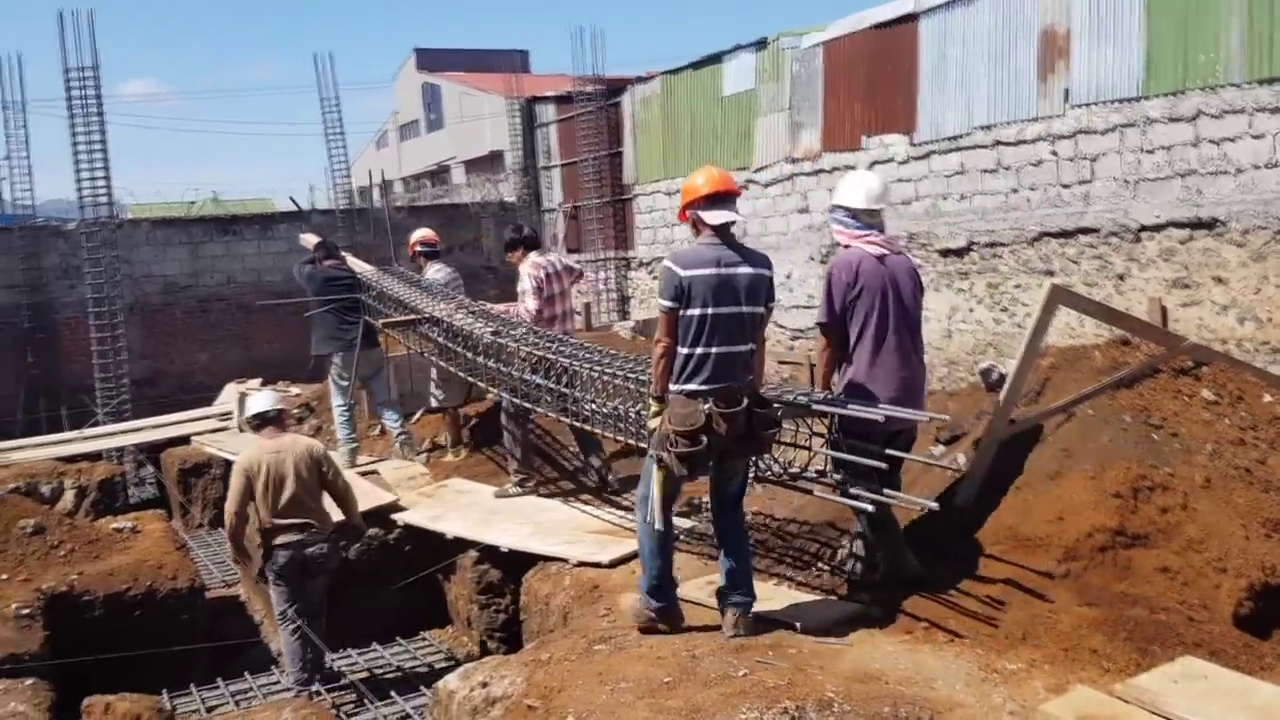helmet: (675, 165, 743, 224), (827, 167, 891, 212), (243, 388, 293, 422), (407, 228, 442, 253)
helmet-off: (503, 223, 540, 267), (312, 238, 344, 270)
helmet-on: (675, 164, 743, 246), (831, 164, 891, 254), (241, 385, 294, 441), (407, 228, 443, 270)
person: (636, 168, 777, 638), (811, 168, 928, 613), (222, 384, 366, 689), (495, 219, 626, 499), (294, 236, 422, 469), (408, 226, 470, 462)
